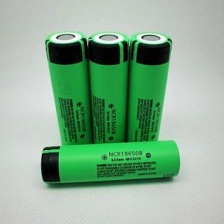battery: (37, 137, 182, 189), (41, 28, 95, 161), (81, 27, 131, 161), (123, 29, 174, 157)
